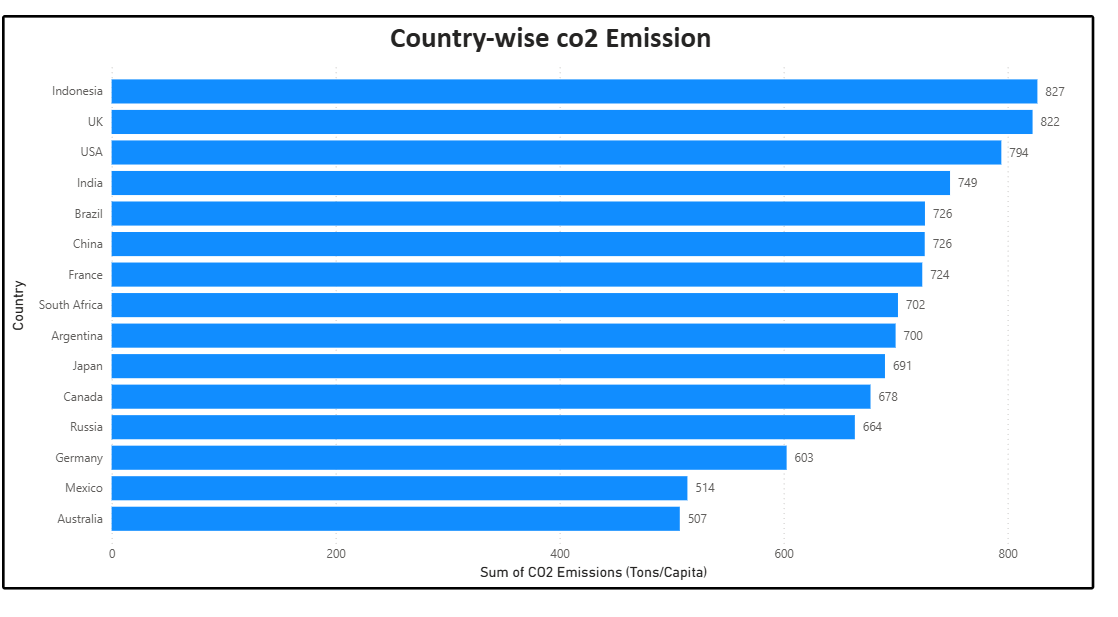

Layout of this report page (visuals, bound fields, positions):
{"tool":"powerbi","page":{"name":"Page 1","canvas":[1280,720],"ordinal":0},"visuals":[{"type":"clusteredBarChart","title":"Country-wise co2 Emission","fields":{"Category":["climate_change_dataset.Country"],"Y":["Sum(climate_change_dataset.CO2 Emissions (Tons/Capita))"]},"box":[105.2,63.1,1102.7,579.7],"z":0}]}

Visuals, with their boxes in screenshot pixels (x1, y1, x2, y2), scaled from the page's 1280x720 canvas onto the 1118x617 screenshot:
"Country-wise co2 Emission" clusteredBarChart: (left=92, top=54, right=1055, bottom=551)
